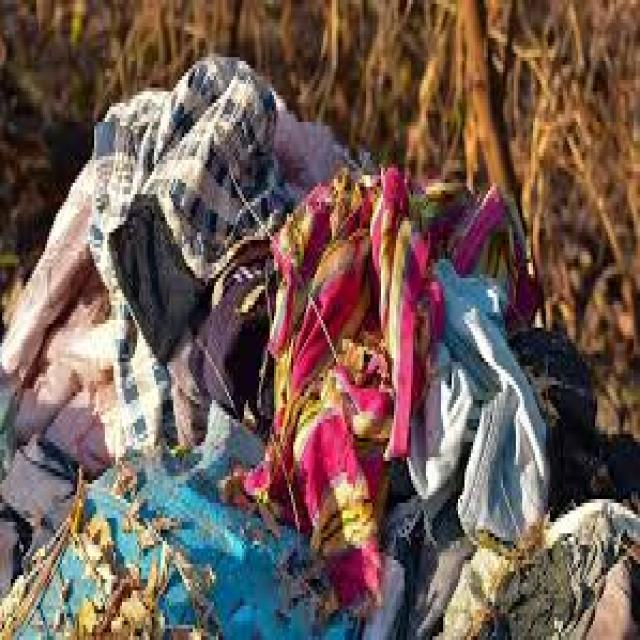Clothes -Biodegradable-: (0, 56, 640, 640)
